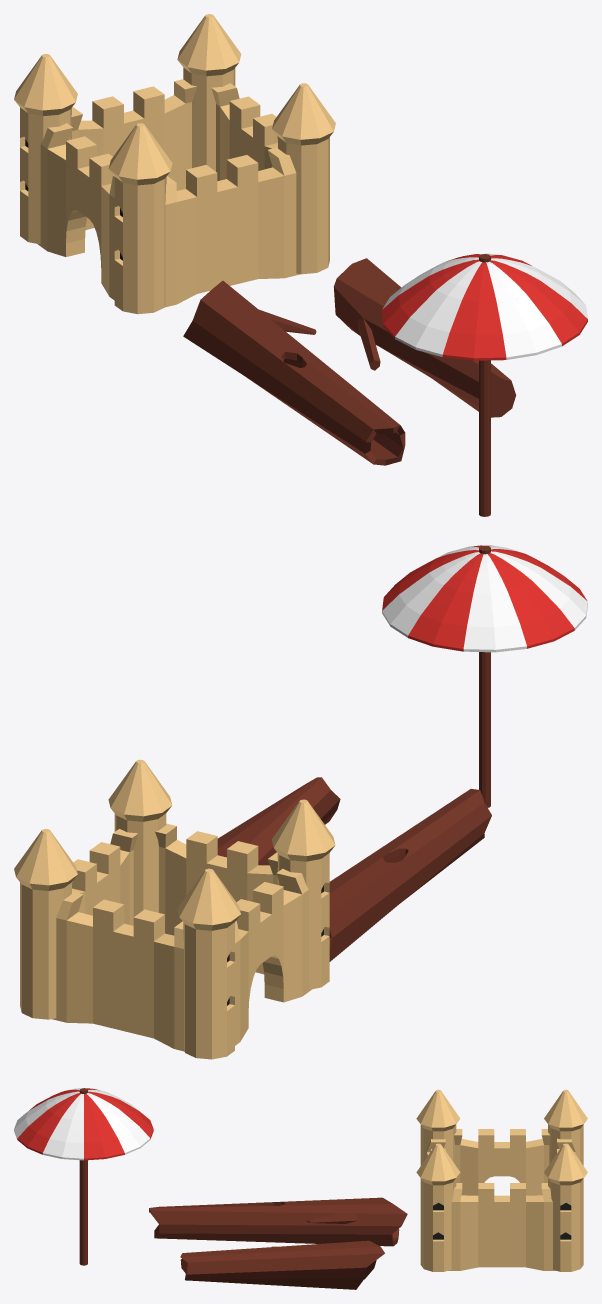
File: COISAS PRAIA certo.fbx
3 views of the same model, one above another, from view 1: azimuth 30°, elevation 25°; view 2: azimuth 150°, elevation 25°; view 3: azimuth 270°, elevation 25° (orthographic). The views are drawn at different scales.
Visible parts, largest first — view 1: Cylinder.002, Cylinder, Cylinder.003, Cylinder.001; view 2: Cylinder.002, Cylinder, Cylinder.003, Cylinder.001; view 3: Cylinder.002, Cylinder.003, Cylinder, Cylinder.001.
Boxes of the visible parts, x1,y1,x2,y2 form: Cylinder.002: [14, 14, 335, 314]; Cylinder: [381, 253, 587, 516]; Cylinder.003: [183, 280, 405, 465]; Cylinder.001: [333, 258, 516, 417]; Cylinder.002: [14, 759, 335, 1059]; Cylinder: [382, 545, 587, 807]; Cylinder.003: [329, 789, 491, 961]; Cylinder.001: [217, 777, 340, 865]; Cylinder.002: [416, 1089, 587, 1271]; Cylinder.003: [149, 1197, 407, 1246]; Cylinder: [14, 1088, 153, 1265]; Cylinder.001: [180, 1240, 384, 1289].
Bounding box in the file's own units: 481 × 532 × 1592.
